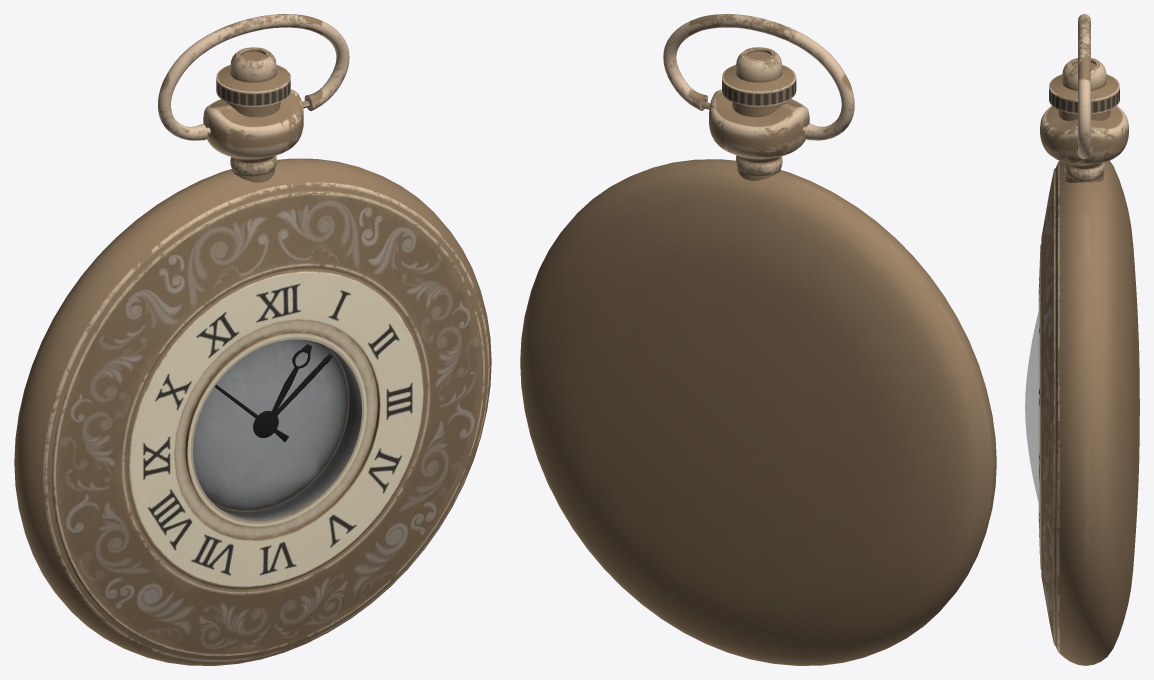
File: pocket-watch-1911.glb
3 renders of one model, left to right at view 1: azimuth 30°, elevation 25°; view 2: azimuth 150°, elevation 25°; view 3: azimuth 270°, elevation 25°, orthographic. The views are drawn at different scales.
Visible parts, largest first — view 1: vintage_pocket_watch; view 2: vintage_pocket_watch; view 3: vintage_pocket_watch.
Boxes of the visible parts, x1,y1,x2,y2 form: vintage_pocket_watch: (14, 14, 491, 665); vintage_pocket_watch: (520, 14, 996, 665); vintage_pocket_watch: (1025, 14, 1139, 665).
Bounding box in the file's own units: 0.0613 × 0.0799 × 0.0136.
3 materials, 1 textured.
